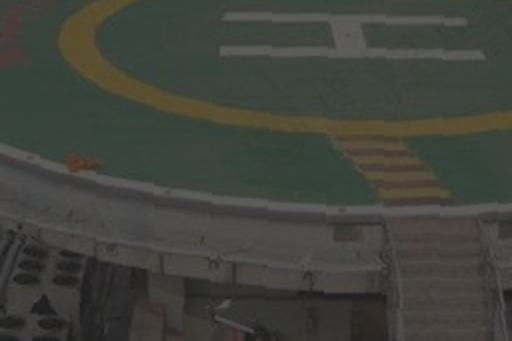Apron: (54, 1, 510, 138)
